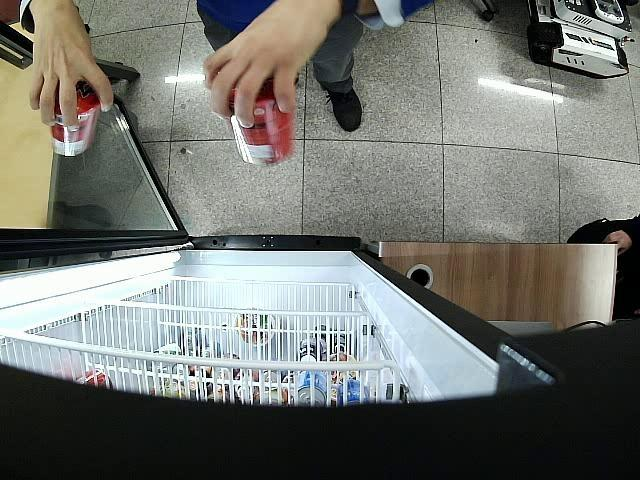02_shinRamen_S: (229, 85, 294, 167), (52, 69, 99, 156)
